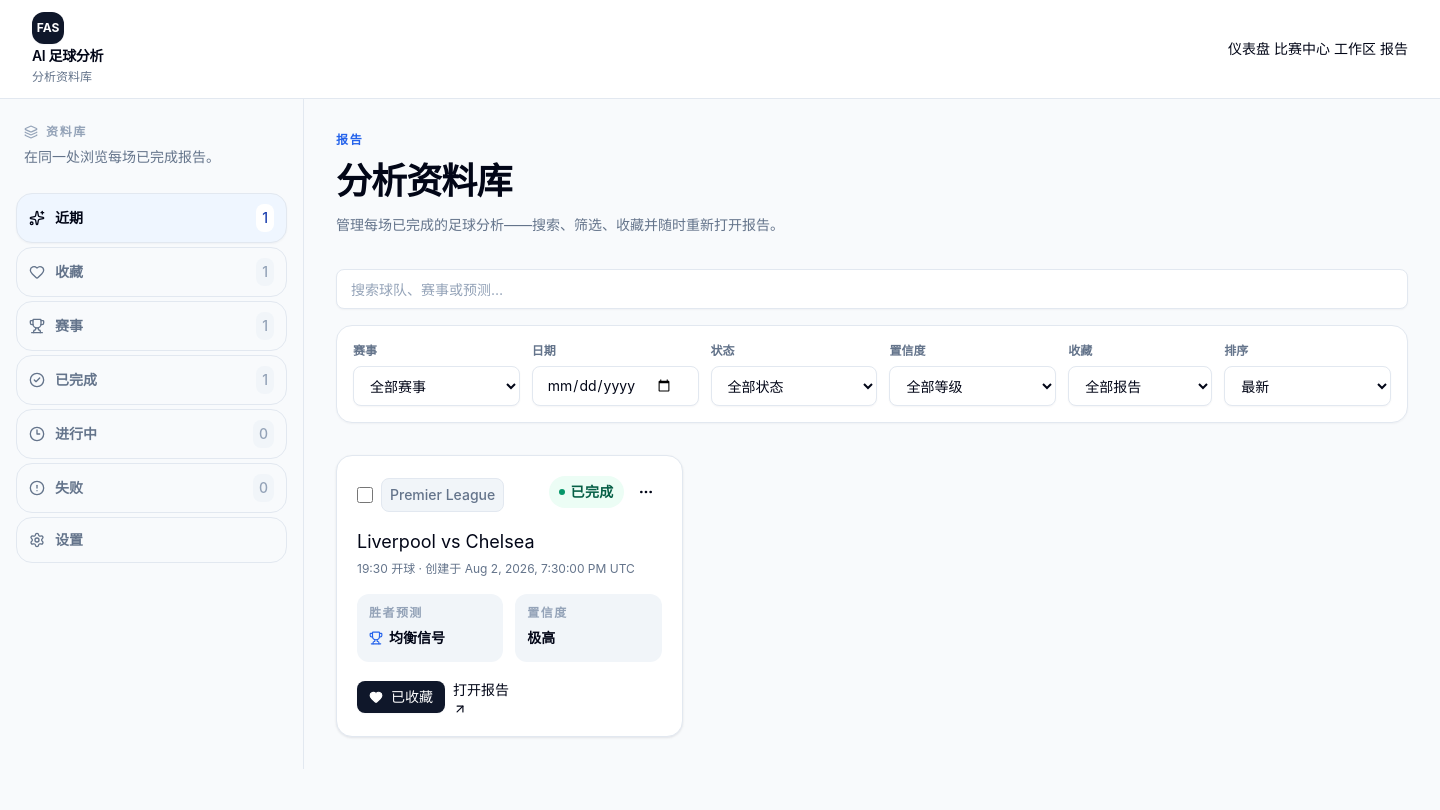
Scenario: AnalysisLibraryPage › supports presentation-only delete from the library
This screenshot has width=1440, height=810.
Check: the text "Liverpool vs Chelsea" is shown, box [357,531,534,552]
Click the checkbox labelled "Premier League": [365, 495] box [357,487,373,503]
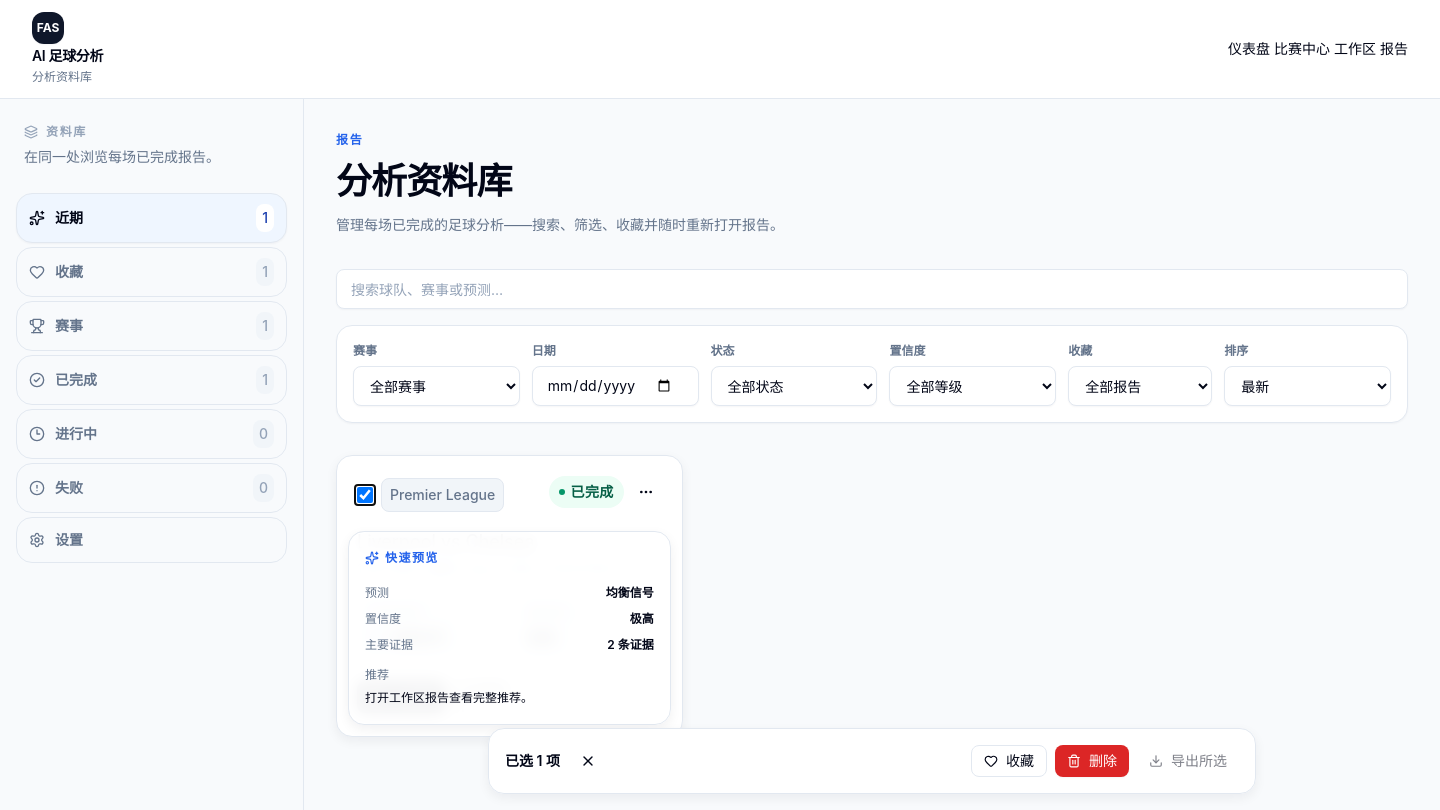
Click the button with aria-label "删除所选": [1092, 761] box [1055,745,1129,777]
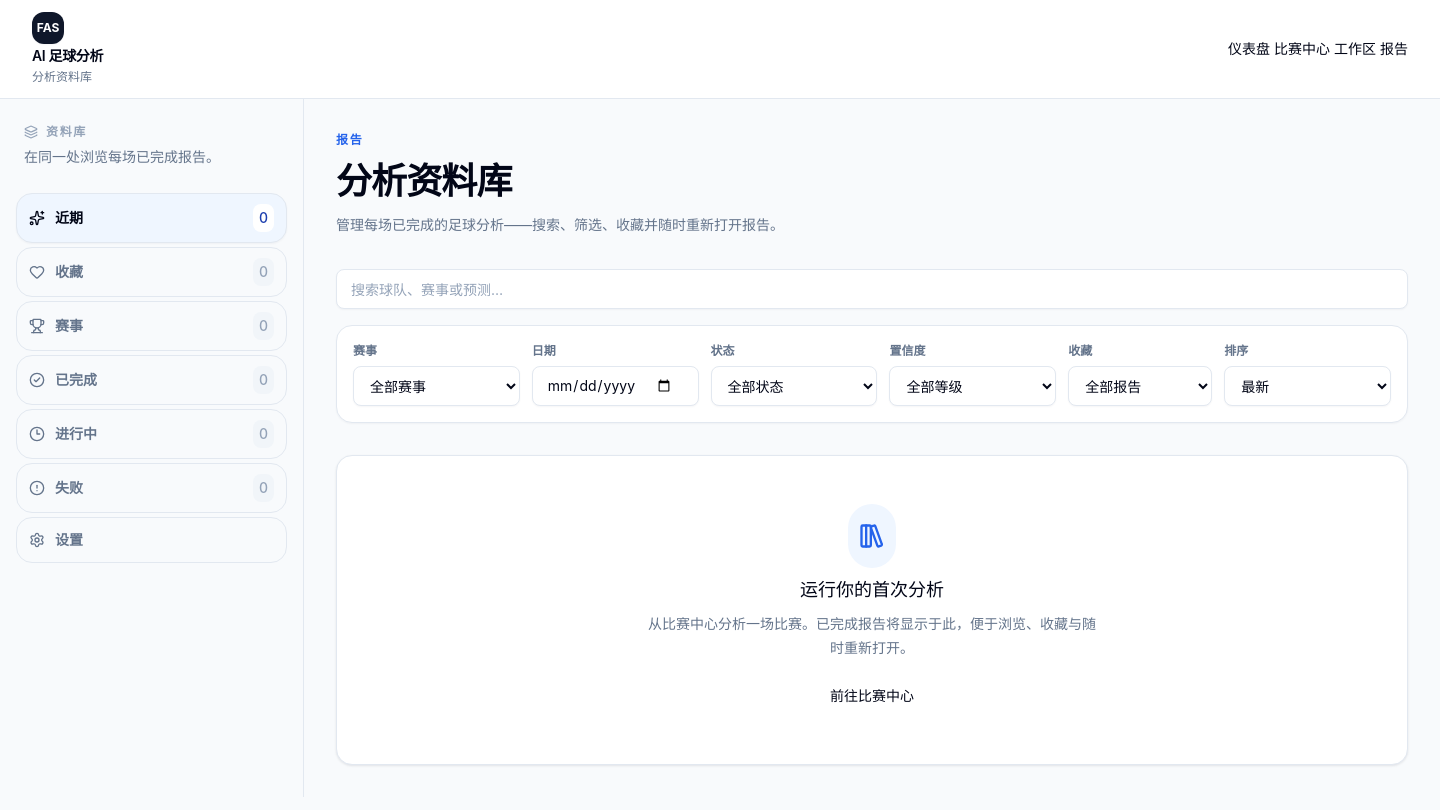
Check: the text "运行你的首次分析" is shown, box [800,576,944,604]
